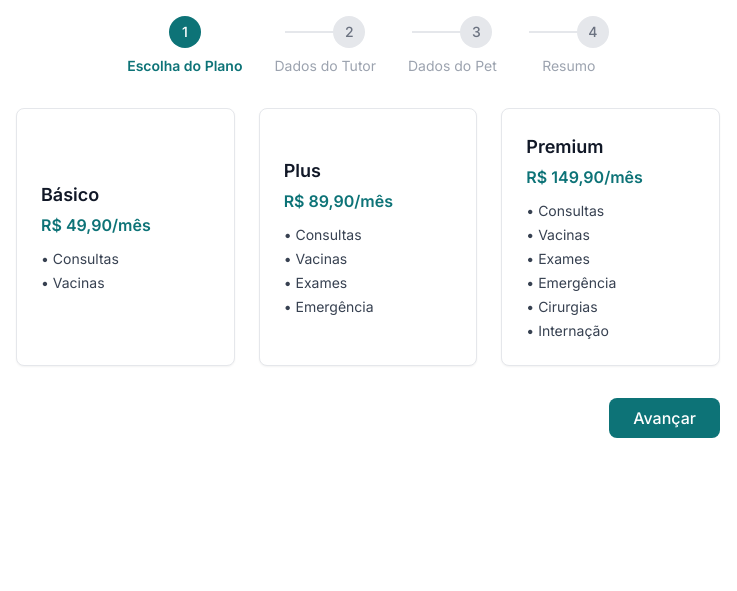
Scenario: PlanPurchaseFlow Integration › should preserve tutor data when navigating back from step 3 to step 2
Step 1. Click the heading "Plus" → click(302, 170), box x1=284 y1=160 x2=321 y2=181
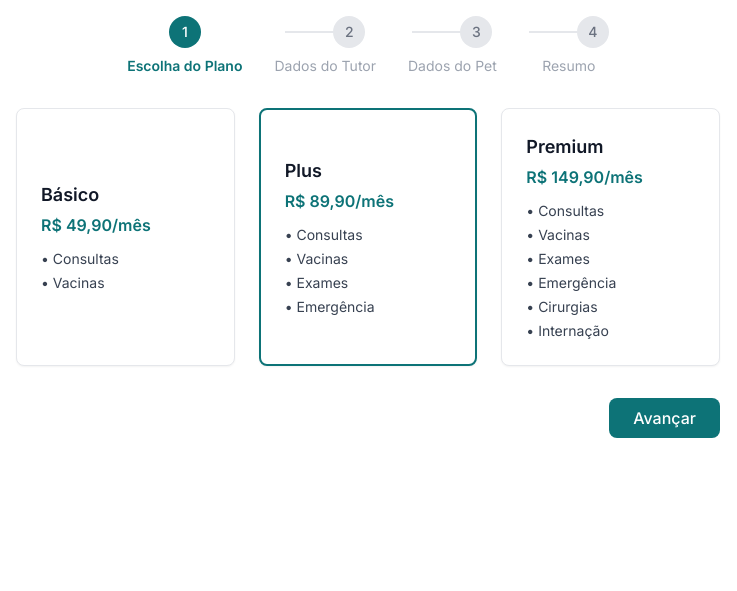
Step 2. Click the button "Avançar" → click(665, 418), box x1=609 y1=398 x2=720 y2=438
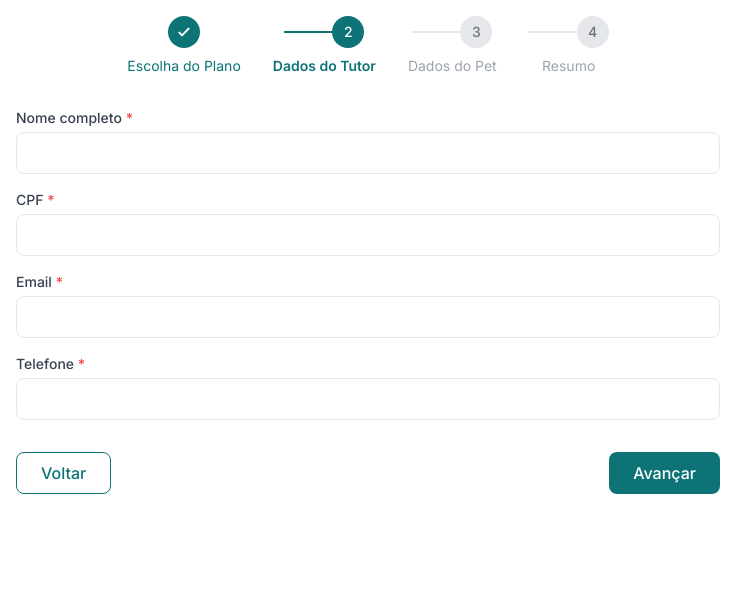
Step 3. Type "João da Silva" into the field labelled "Nome completo *" → (368, 153), box x1=16 y1=132 x2=720 y2=174
Step 4. Type "123.456.789-01" into the field labelled "CPF *" → (368, 235), box x1=16 y1=214 x2=720 y2=256
Step 5. Type "joao@email.com" into the field labelled "Email *" → (368, 317), box x1=16 y1=296 x2=720 y2=338
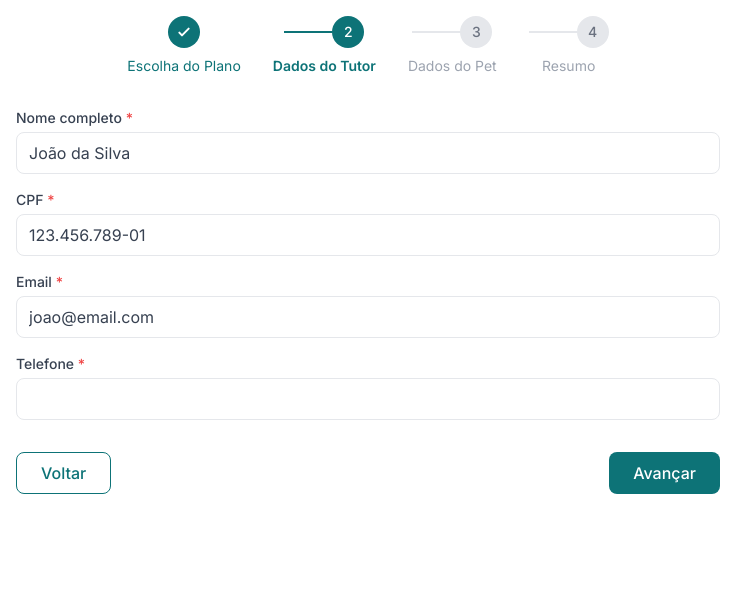
Step 6. Type "(11) 99999-8888" into the field labelled "Telefone *" → (368, 399), box x1=16 y1=378 x2=720 y2=420
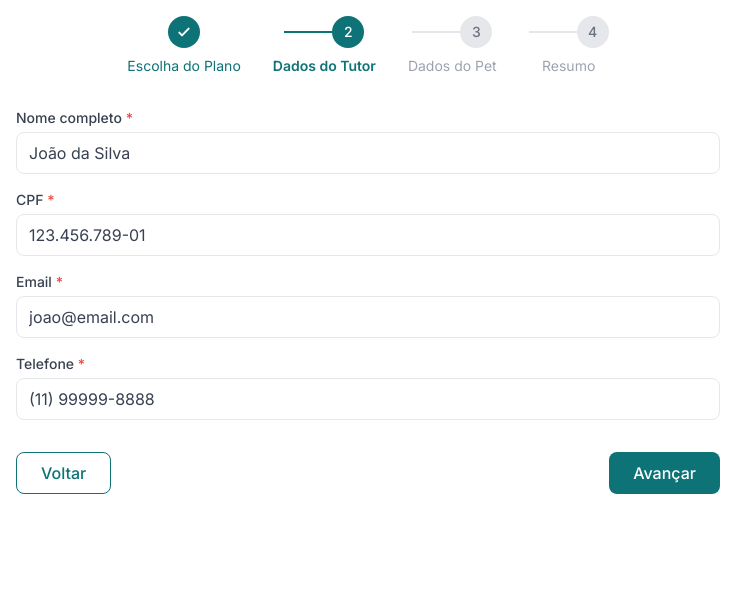
Step 7. Click the button "Avançar" → click(665, 473), box x1=609 y1=452 x2=720 y2=494
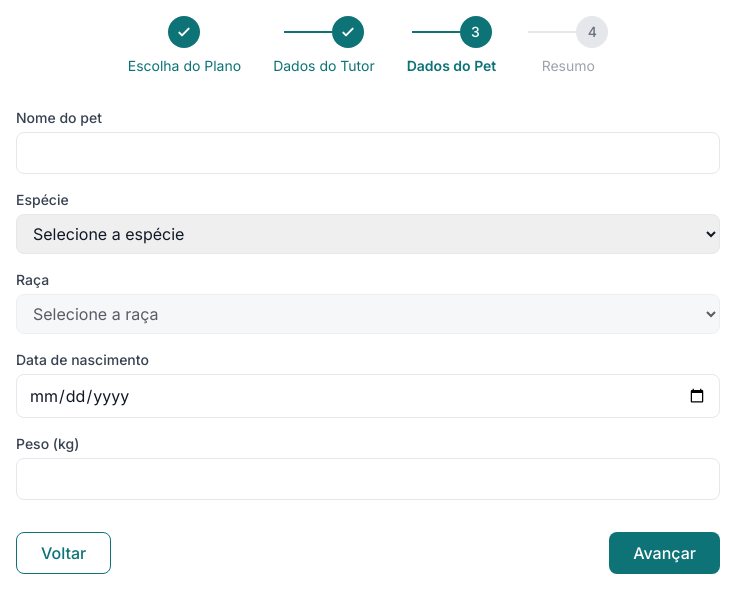
Step 8. Click the button "Voltar" → click(64, 553), box x1=16 y1=532 x2=111 y2=574
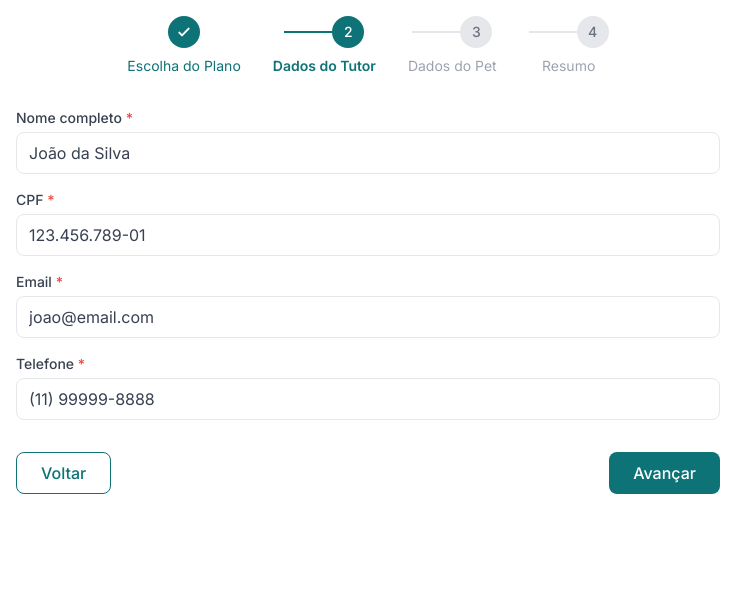
Expected: the field labelled "Nome completo *" holds "João da Silva", x1=16 y1=132 x2=720 y2=174
Expected: the field labelled "CPF *" holds "123.456.789-01", x1=16 y1=214 x2=720 y2=256
Expected: the field labelled "Email *" holds "joao@email.com", x1=16 y1=296 x2=720 y2=338
